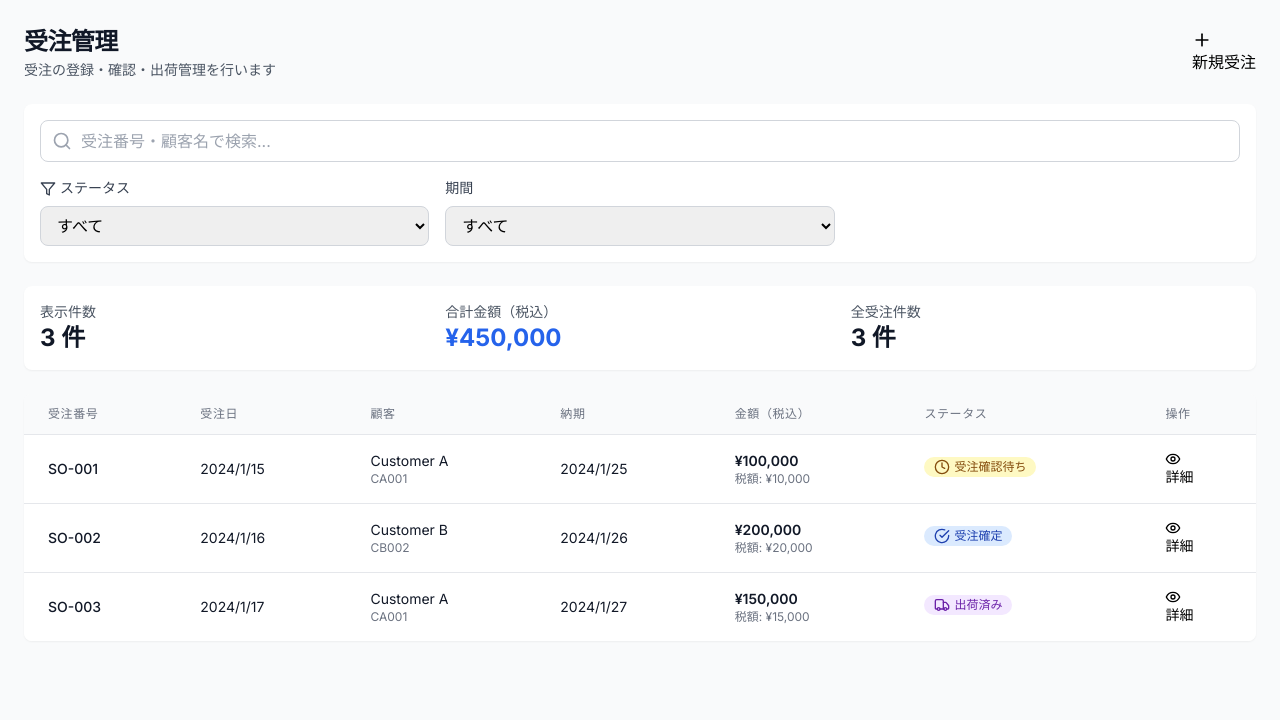
Scenario: SalesOrders › Empty State › should display empty state after filtering
Expected: the text "SO-001" is shown, [48,460,98,477]
Type "NonExistent" into the field with placeholder "受注番号・顧客名で検索...".
click(640, 141); type("NonExistent")  # box [40,120,1240,162]
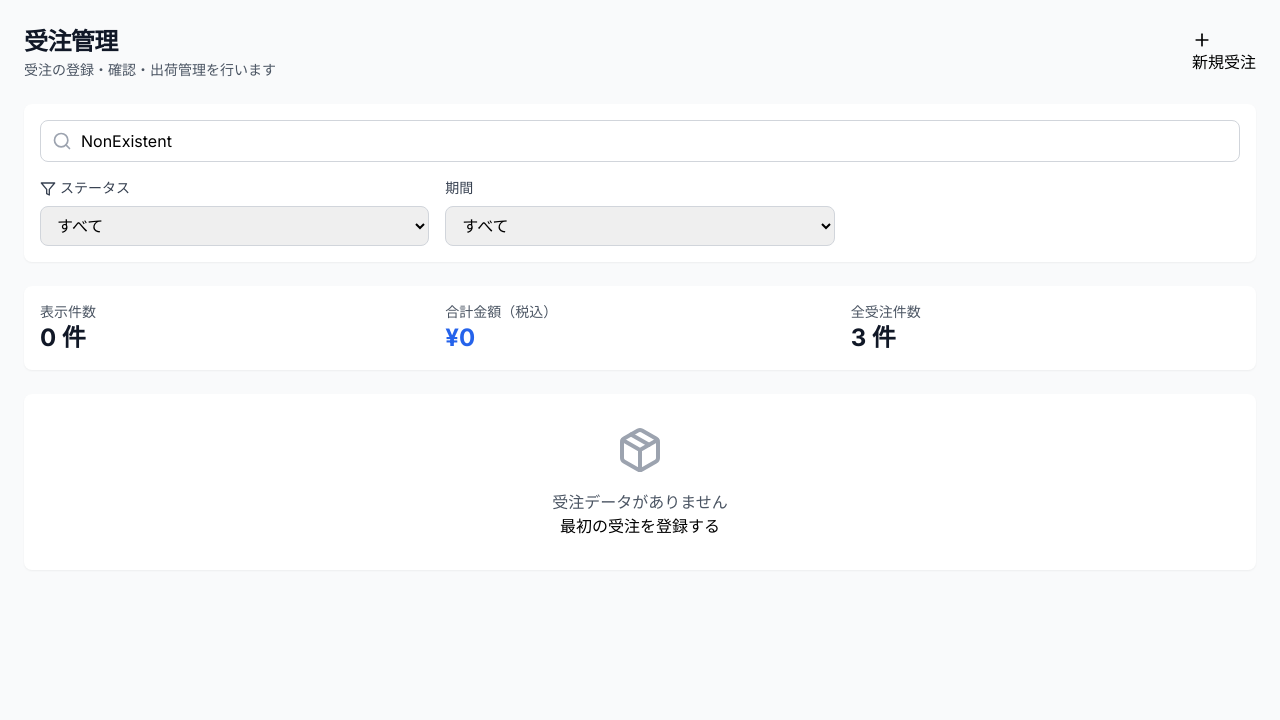
Expected: the text "受注データがありません" is shown, [552,492,728,512]
